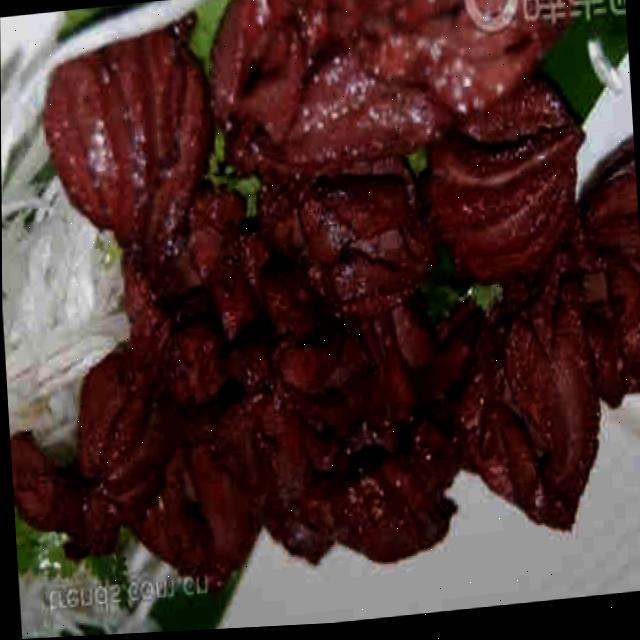烧串烤肉: (1, 0, 640, 621)
